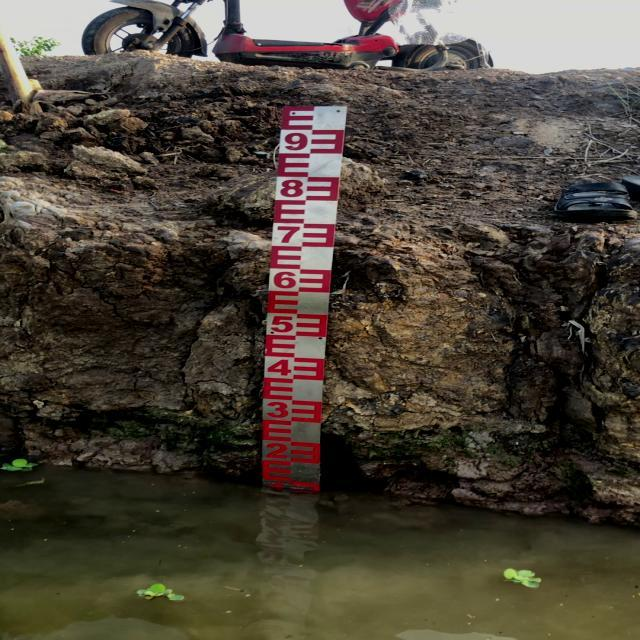ruler: (246, 89, 369, 507)
value: (277, 127, 312, 156), (276, 173, 308, 201), (272, 220, 304, 248), (269, 267, 300, 294), (267, 312, 297, 338), (263, 398, 293, 424), (264, 354, 295, 379), (263, 439, 293, 464)
